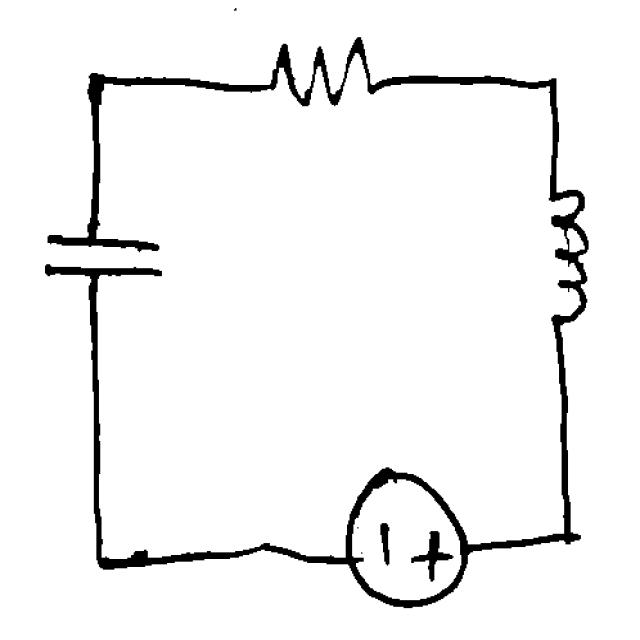capacitor: (40, 219, 172, 289)
dc: (328, 452, 479, 610)
inductor: (528, 175, 603, 332)
resistor: (255, 23, 386, 112)
